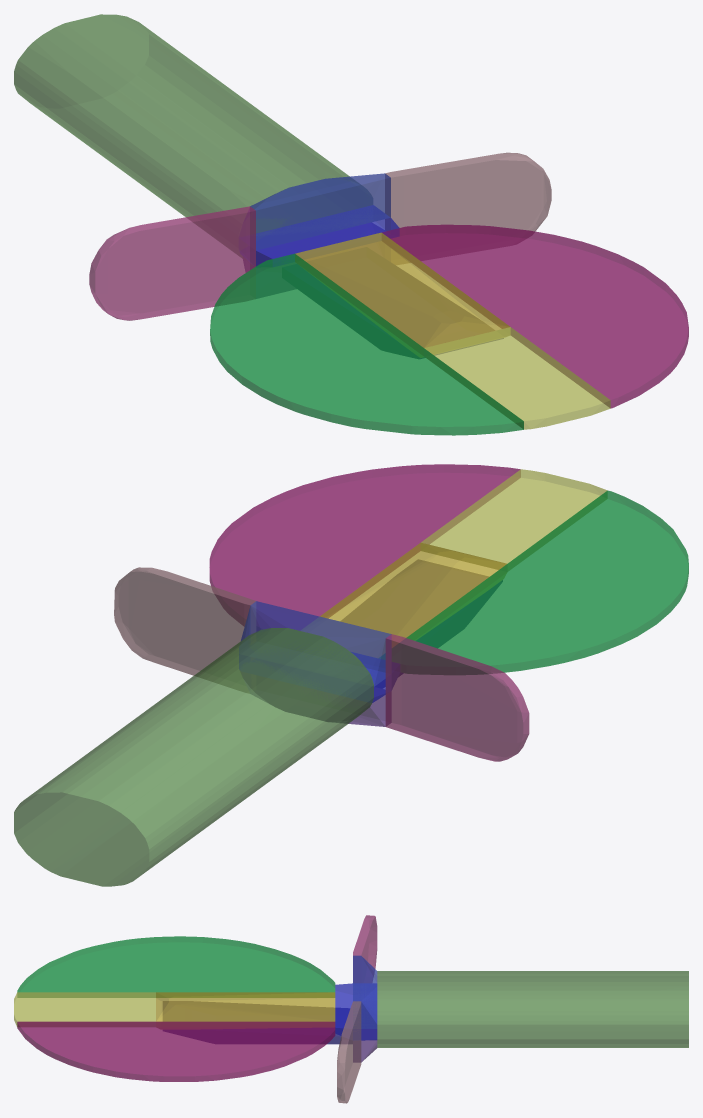
File: Pizza_cutter.obj
The picture shows the model from 3 angles, top to bottom: view 1: azimuth 30°, elevation 25°; view 2: azimuth 150°, elevation 25°; view 3: azimuth 270°, elevation 25°; orthographic projection. The views are drawn at different scales.
Parts seen in each view (by area): view 1: Shape_IndexedFaceSet_Shape_IndexedFaceSet.090, Shape_IndexedFaceSet.001_Shape_IndexedFaceSet.091, Shape_IndexedFaceSet.003_Shape_IndexedFaceSet.093, Shape_IndexedFaceSet.004_Shape_IndexedFaceSet.094, Shape_IndexedFaceSet.002_Shape_IndexedFaceSet.092, Shape_IndexedFaceSet.008_Shape_IndexedFaceSet.098, Shape_IndexedFaceSet.005_Shape_IndexedFaceSet.095, Shape_IndexedFaceSet.007_Shape_IndexedFaceSet.097, Shape_IndexedFaceSet.006_Shape_IndexedFaceSet.096, Shape_IndexedFaceSet.009_Shape_IndexedFaceSet.099, Shape_IndexedFaceSet.010_Shape_IndexedFaceSet.100; view 2: Shape_IndexedFaceSet_Shape_IndexedFaceSet.090, Shape_IndexedFaceSet.001_Shape_IndexedFaceSet.091, Shape_IndexedFaceSet.003_Shape_IndexedFaceSet.093, Shape_IndexedFaceSet.004_Shape_IndexedFaceSet.094, Shape_IndexedFaceSet.002_Shape_IndexedFaceSet.092, Shape_IndexedFaceSet.008_Shape_IndexedFaceSet.098, Shape_IndexedFaceSet.005_Shape_IndexedFaceSet.095, Shape_IndexedFaceSet.006_Shape_IndexedFaceSet.096, Shape_IndexedFaceSet.007_Shape_IndexedFaceSet.097, Shape_IndexedFaceSet.010_Shape_IndexedFaceSet.100, Shape_IndexedFaceSet.009_Shape_IndexedFaceSet.099; view 3: Shape_IndexedFaceSet_Shape_IndexedFaceSet.090, Shape_IndexedFaceSet.001_Shape_IndexedFaceSet.091, Shape_IndexedFaceSet.003_Shape_IndexedFaceSet.093, Shape_IndexedFaceSet.008_Shape_IndexedFaceSet.098, Shape_IndexedFaceSet.007_Shape_IndexedFaceSet.097, Shape_IndexedFaceSet.005_Shape_IndexedFaceSet.095, Shape_IndexedFaceSet.009_Shape_IndexedFaceSet.099, Shape_IndexedFaceSet.002_Shape_IndexedFaceSet.092, Shape_IndexedFaceSet.006_Shape_IndexedFaceSet.096, Shape_IndexedFaceSet.004_Shape_IndexedFaceSet.094, Shape_IndexedFaceSet.010_Shape_IndexedFaceSet.100.
Part boxes in pixels (box(x1,y1,x2,y2)): Shape_IndexedFaceSet_Shape_IndexedFaceSet.090: box(14, 14, 372, 257); Shape_IndexedFaceSet.001_Shape_IndexedFaceSet.091: box(210, 253, 523, 435); Shape_IndexedFaceSet.003_Shape_IndexedFaceSet.093: box(382, 224, 688, 408); Shape_IndexedFaceSet.004_Shape_IndexedFaceSet.094: box(89, 206, 255, 320); Shape_IndexedFaceSet.002_Shape_IndexedFaceSet.092: box(385, 152, 551, 264); Shape_IndexedFaceSet.008_Shape_IndexedFaceSet.098: box(295, 232, 509, 357); Shape_IndexedFaceSet.005_Shape_IndexedFaceSet.095: box(424, 327, 610, 429); Shape_IndexedFaceSet.007_Shape_IndexedFaceSet.097: box(282, 247, 503, 358); Shape_IndexedFaceSet.006_Shape_IndexedFaceSet.096: box(244, 173, 390, 250); Shape_IndexedFaceSet.009_Shape_IndexedFaceSet.099: box(240, 205, 399, 266); Shape_IndexedFaceSet.010_Shape_IndexedFaceSet.100: box(243, 223, 384, 298); Shape_IndexedFaceSet_Shape_IndexedFaceSet.090: box(14, 628, 373, 886); Shape_IndexedFaceSet.001_Shape_IndexedFaceSet.091: box(380, 490, 688, 674); Shape_IndexedFaceSet.003_Shape_IndexedFaceSet.093: box(209, 464, 520, 630); Shape_IndexedFaceSet.004_Shape_IndexedFaceSet.094: box(385, 634, 529, 761); Shape_IndexedFaceSet.002_Shape_IndexedFaceSet.092: box(114, 567, 256, 692); Shape_IndexedFaceSet.008_Shape_IndexedFaceSet.098: box(301, 542, 506, 657); Shape_IndexedFaceSet.005_Shape_IndexedFaceSet.095: box(421, 469, 607, 570); Shape_IndexedFaceSet.006_Shape_IndexedFaceSet.096: box(239, 601, 391, 686); Shape_IndexedFaceSet.007_Shape_IndexedFaceSet.097: box(341, 560, 502, 687); Shape_IndexedFaceSet.010_Shape_IndexedFaceSet.100: box(241, 672, 390, 726); Shape_IndexedFaceSet.009_Shape_IndexedFaceSet.099: box(239, 653, 399, 702); Shape_IndexedFaceSet_Shape_IndexedFaceSet.090: box(377, 971, 688, 1047); Shape_IndexedFaceSet.001_Shape_IndexedFaceSet.091: box(17, 936, 335, 997); Shape_IndexedFaceSet.003_Shape_IndexedFaceSet.093: box(17, 1021, 335, 1081); Shape_IndexedFaceSet.008_Shape_IndexedFaceSet.098: box(156, 992, 335, 1028); Shape_IndexedFaceSet.007_Shape_IndexedFaceSet.097: box(163, 1001, 352, 1044); Shape_IndexedFaceSet.005_Shape_IndexedFaceSet.095: box(14, 992, 155, 1026); Shape_IndexedFaceSet.009_Shape_IndexedFaceSet.099: box(335, 983, 377, 1040); Shape_IndexedFaceSet.002_Shape_IndexedFaceSet.092: box(337, 1001, 361, 1103); Shape_IndexedFaceSet.006_Shape_IndexedFaceSet.096: box(353, 955, 377, 1028); Shape_IndexedFaceSet.004_Shape_IndexedFaceSet.094: box(353, 915, 377, 982); Shape_IndexedFaceSet.010_Shape_IndexedFaceSet.100: box(353, 1029, 377, 1062).
Bounding box in the file's own units: 6.34 × 1.24 × 12.33.
